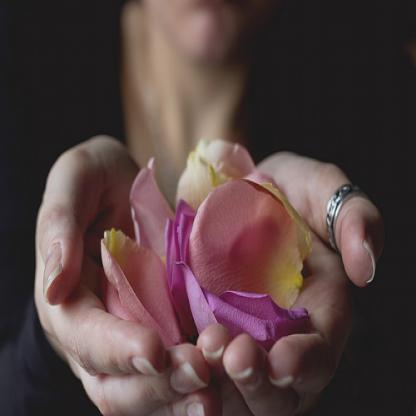Rose-Mawar: (97, 123, 323, 344)
